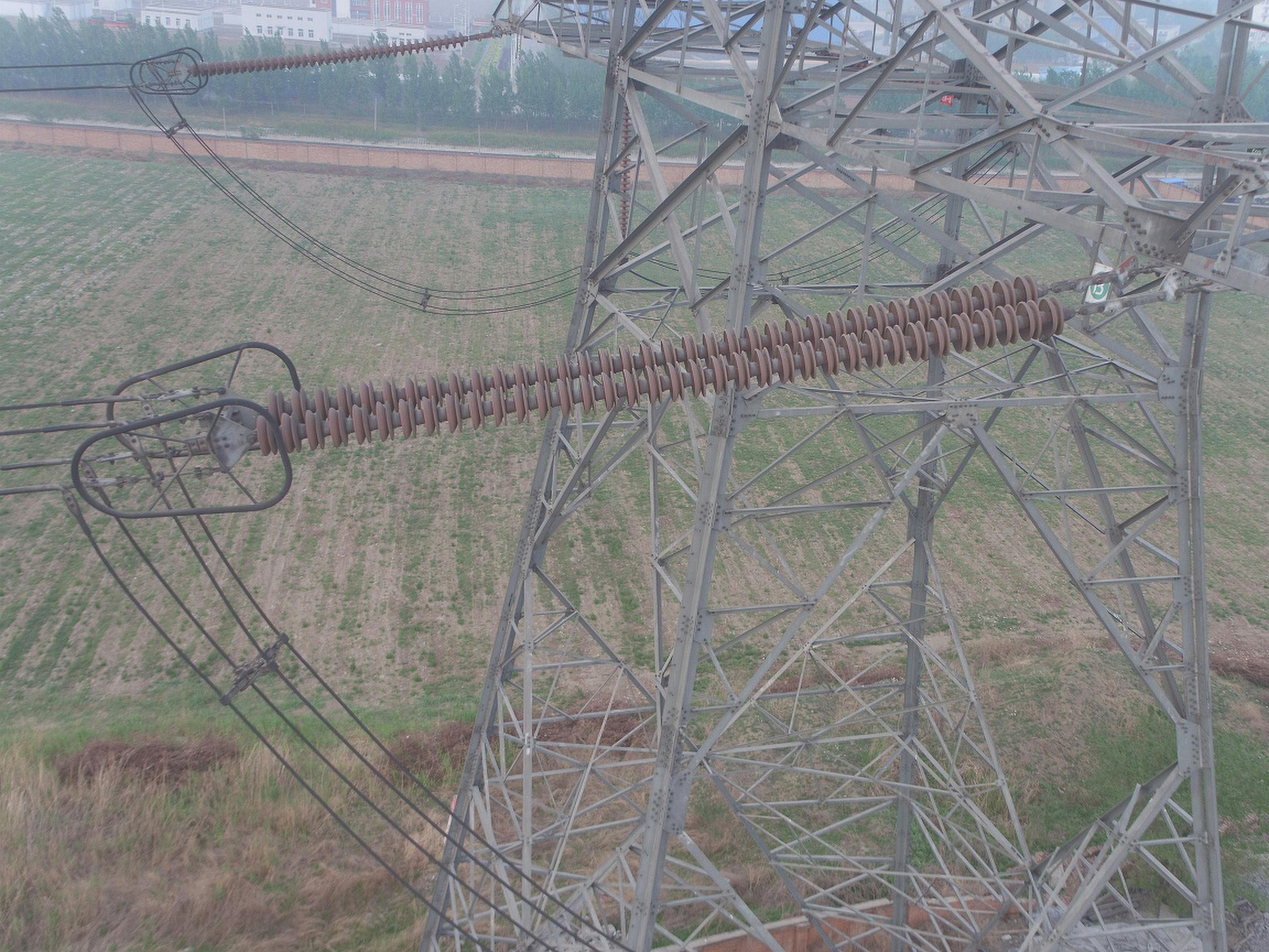insulator: (251, 271, 1068, 459), (188, 29, 465, 79), (619, 103, 634, 239)
